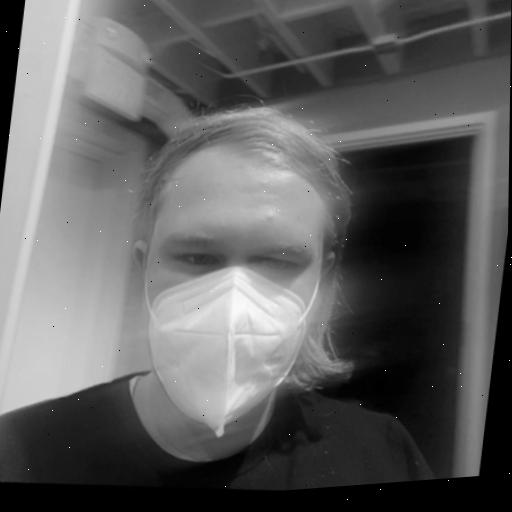mask: (100, 75, 380, 475)
